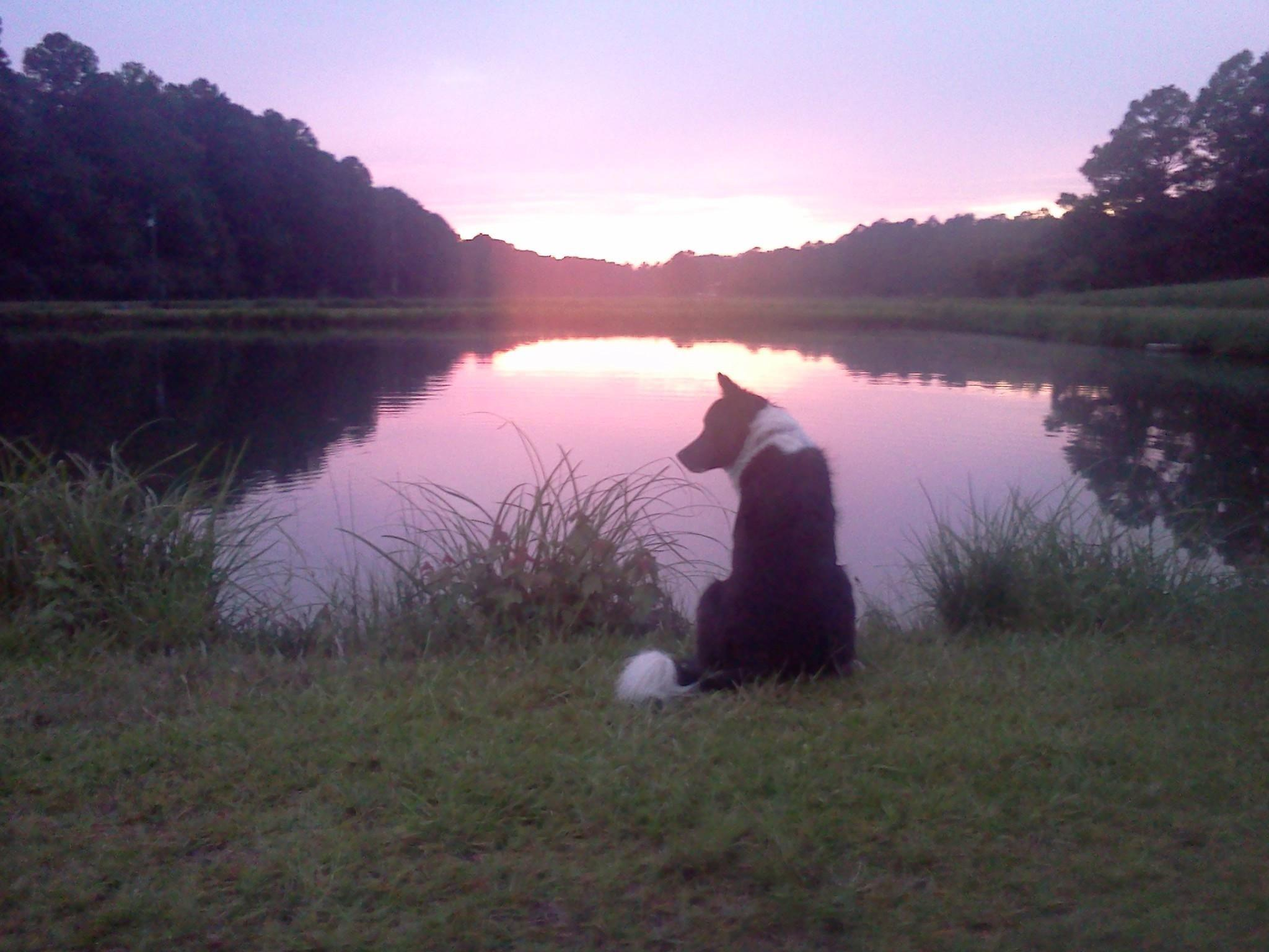adult_dog: (612, 371, 860, 705)
